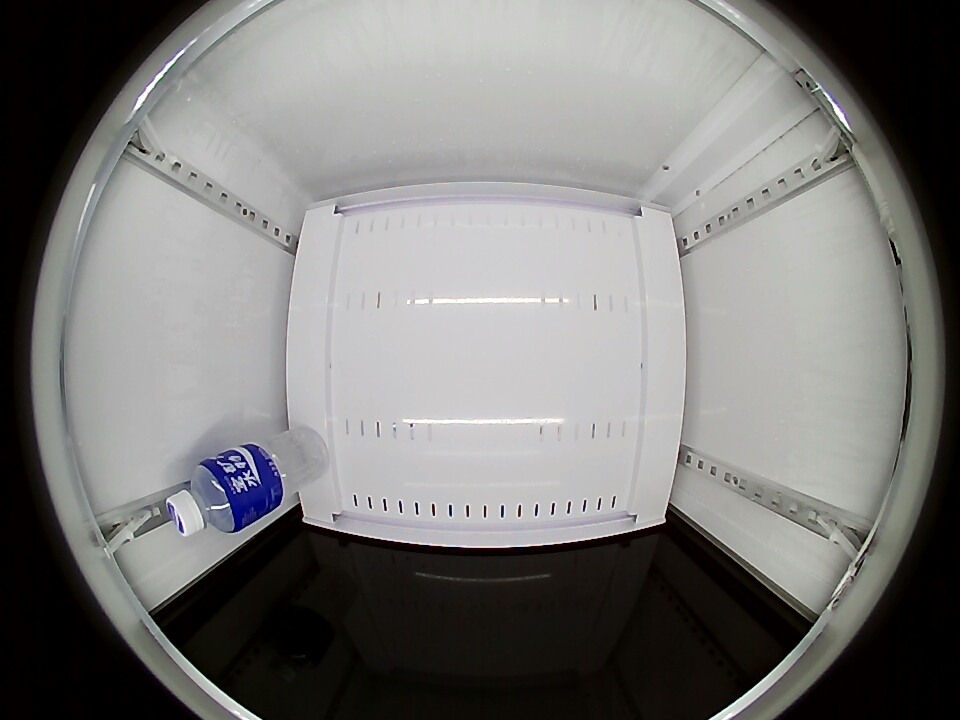baokuangli: (165, 456, 249, 537)
